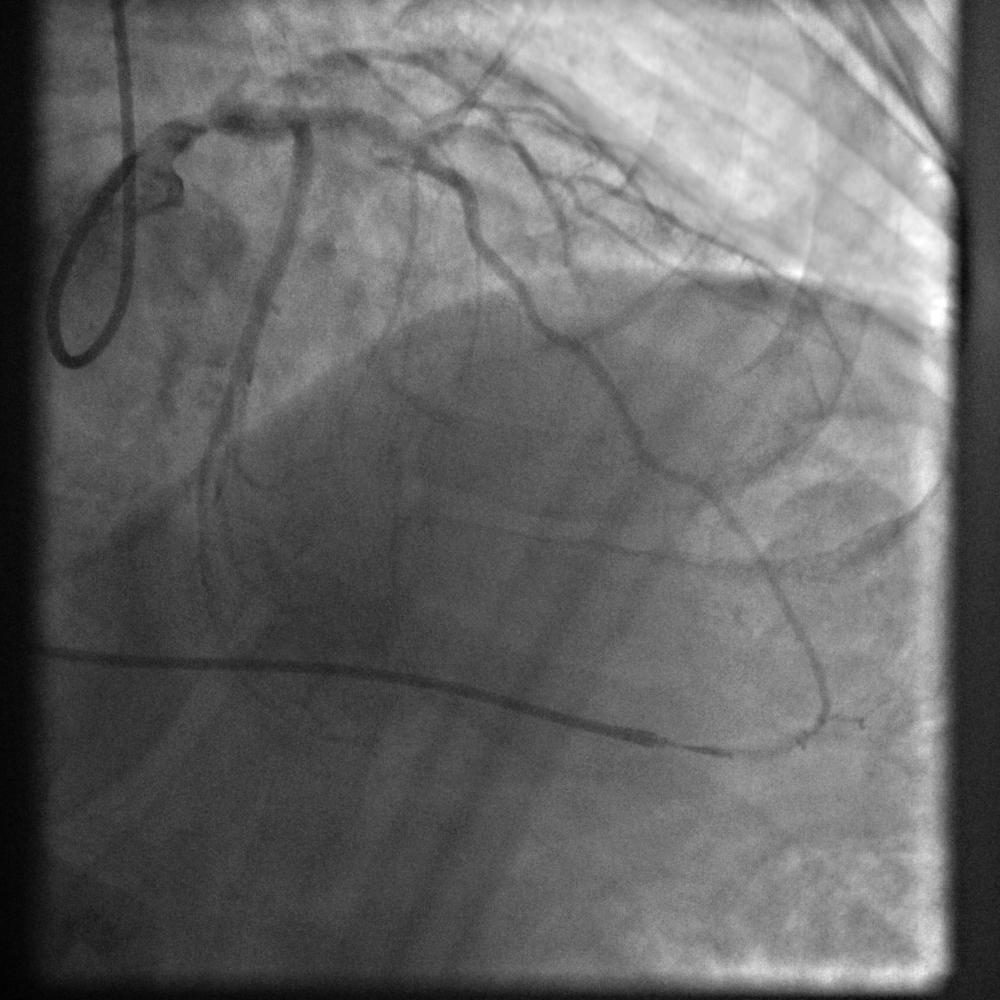Stenosis: (393, 124, 462, 173)
